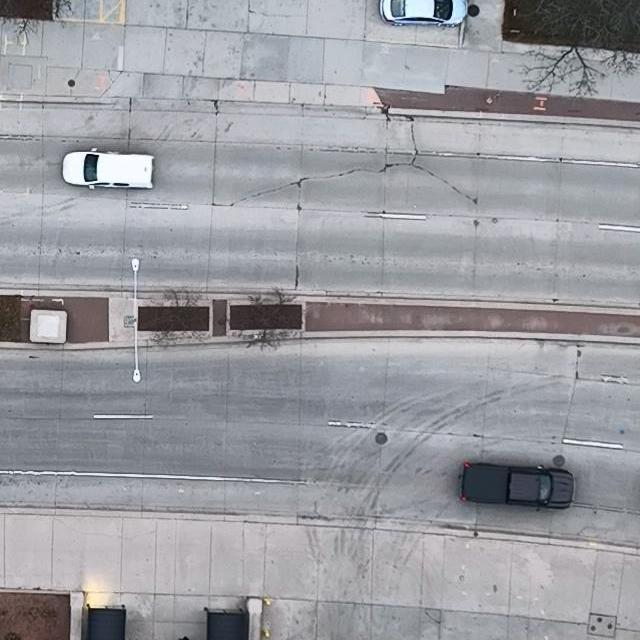car: (457, 462, 574, 510), (61, 147, 155, 190), (379, 0, 469, 27)
